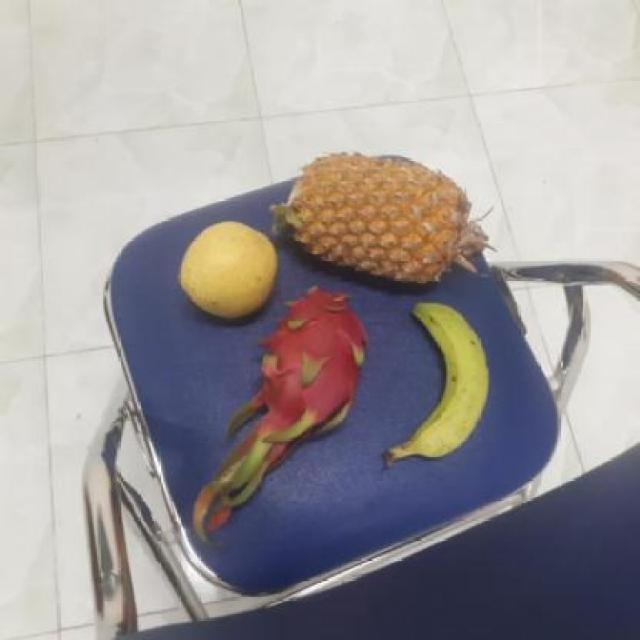banana: (386, 301, 489, 458)
dragon fruit: (250, 287, 370, 435)
pear: (173, 218, 279, 320)
pineapple: (276, 149, 472, 289)
